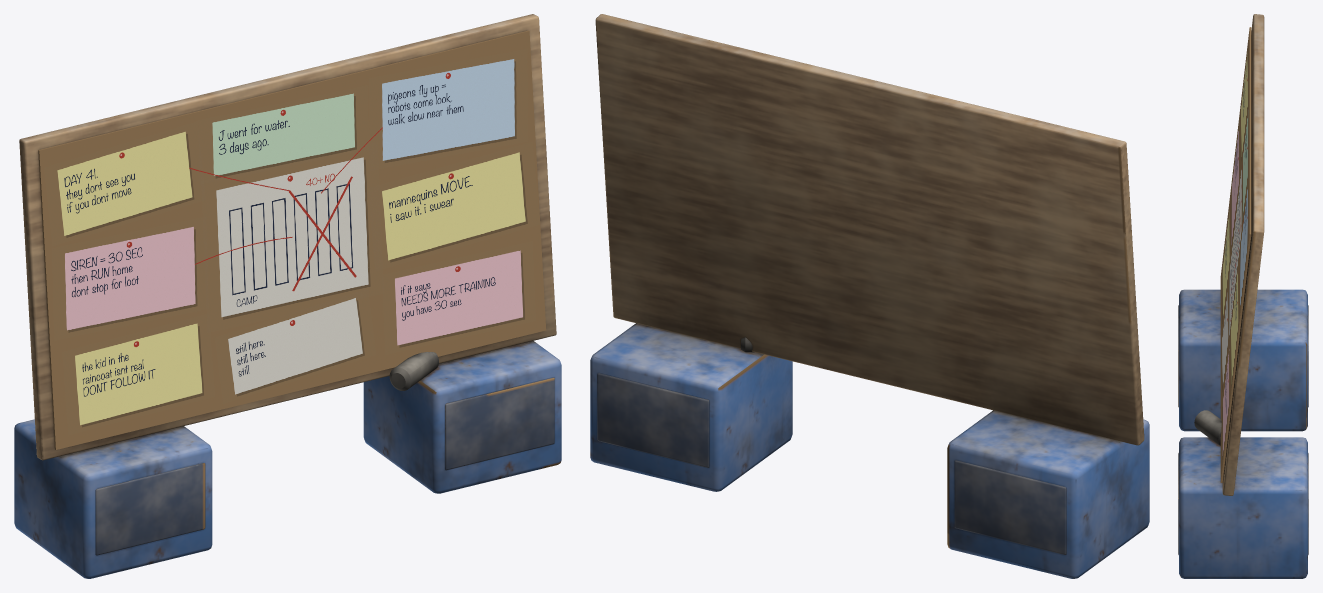
Rendered from notes_wall.fbx.
3 views of the same model, side by side, from view 1: azimuth 30°, elevation 25°; view 2: azimuth 150°, elevation 25°; view 3: azimuth 270°, elevation 25° (orthographic). The views are drawn at different scales.
Parts seen in each view (by area): view 1: Screen, Body; view 2: Body; view 3: Body, Screen.
Part boxes in pixels (box(x1,y1,x2,y2)): Screen: box(38, 30, 546, 449); Body: box(14, 14, 561, 578); Body: box(590, 14, 1149, 578); Body: box(1178, 14, 1308, 578); Screen: box(1220, 27, 1251, 482).
Bounding box in the file's own units: 5.6 × 4.3 × 1.42.
Materials: 2 (2 with a texture image).
